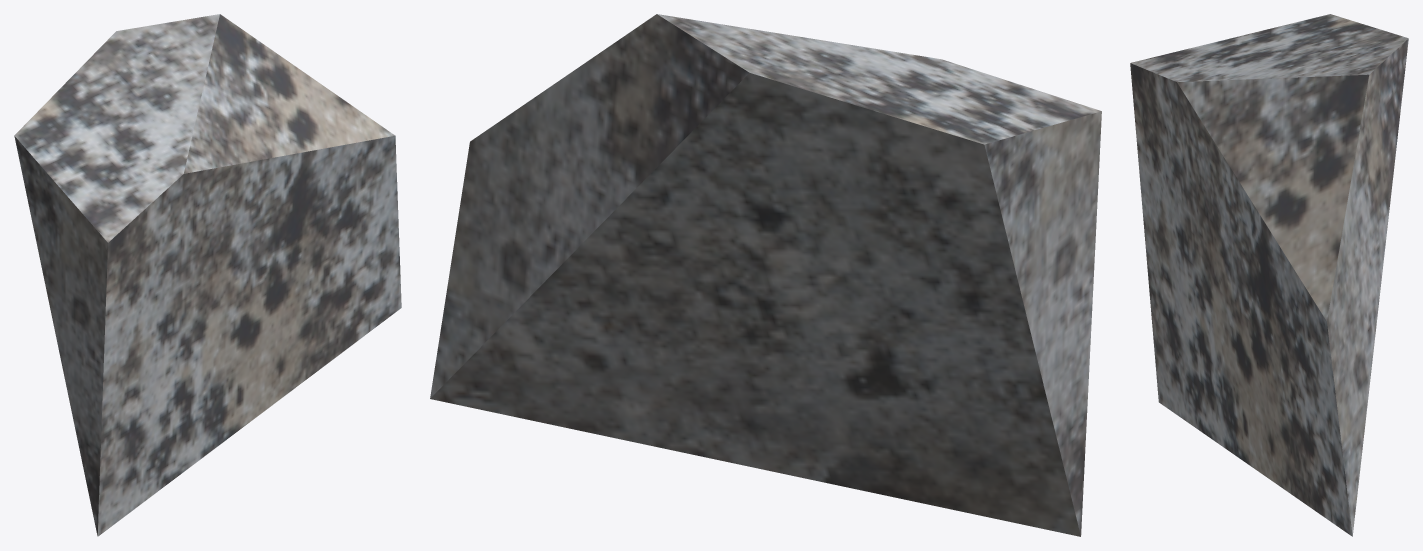
The model's file is Asteroid_Large_001_02_008_03_019.fbx.
3 views of the same model, side by side, from view 1: azimuth 30°, elevation 25°; view 2: azimuth 150°, elevation 25°; view 3: azimuth 270°, elevation 25° (orthographic). The views are drawn at different scales.
Visible parts, largest first — view 1: Asteroid_Large_001_02_008_03_019; view 2: Asteroid_Large_001_02_008_03_019; view 3: Asteroid_Large_001_02_008_03_019.
Boxes of the visible parts, x1,y1,x2,y2 form: Asteroid_Large_001_02_008_03_019: (14,14,401,536); Asteroid_Large_001_02_008_03_019: (430,14,1101,536); Asteroid_Large_001_02_008_03_019: (1130,14,1408,536).
Size of the model in its own units: 6.02 by 5.8 by 3.29.
